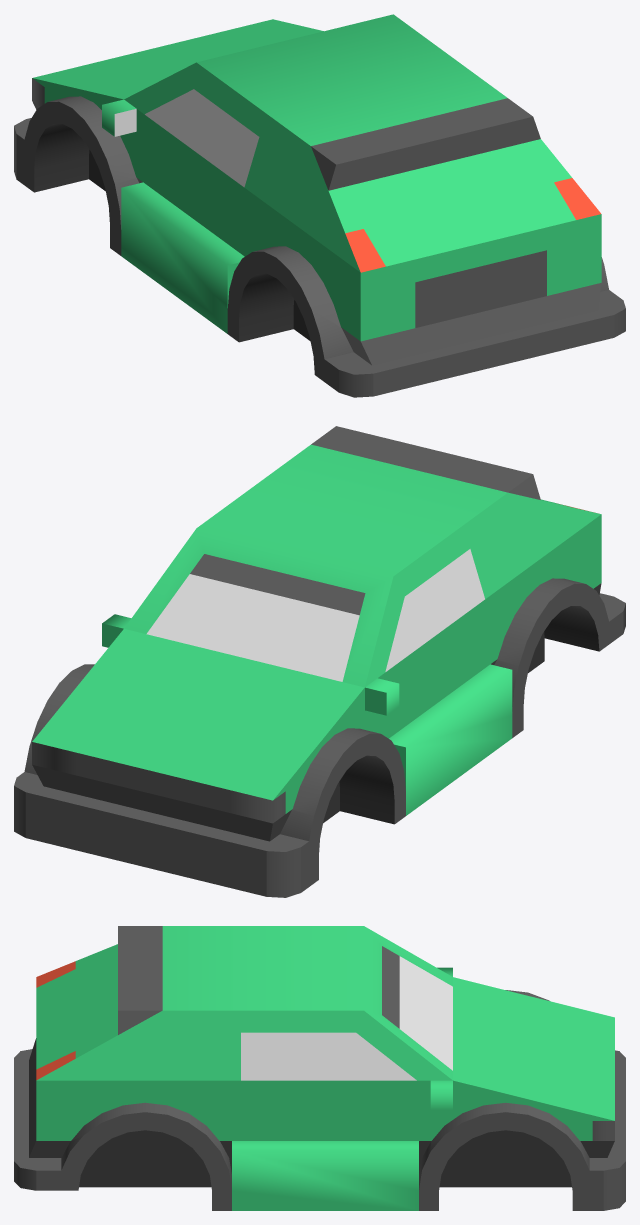
Rendered from race_hatchback_pop.glb.
3 renders of one model, top to bottom at view 1: azimuth 30°, elevation 25°; view 2: azimuth 150°, elevation 25°; view 3: azimuth 270°, elevation 25°, orthographic. The views are drawn at different scales.
Parts seen in each view (by area): view 1: body; view 2: body; view 3: body.
Part boxes in pixels (x1=…): body: x1=14, y1=14, x2=625, y2=397; body: x1=14, y1=426, x2=625, y2=897; body: x1=14, y1=926, x2=625, y2=1210.
Bounding box in the file's own units: 1.3 × 0.9 × 2.75.
